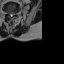CCS_severe_stenosis: (10, 12, 12, 18)
LFS_severe_stenosis: (14, 12, 16, 16)
LLS_normal: (12, 12, 14, 17)
RFS_severe_stenosis: (7, 11, 9, 16)
RLS_stenosis: (9, 11, 11, 17)
